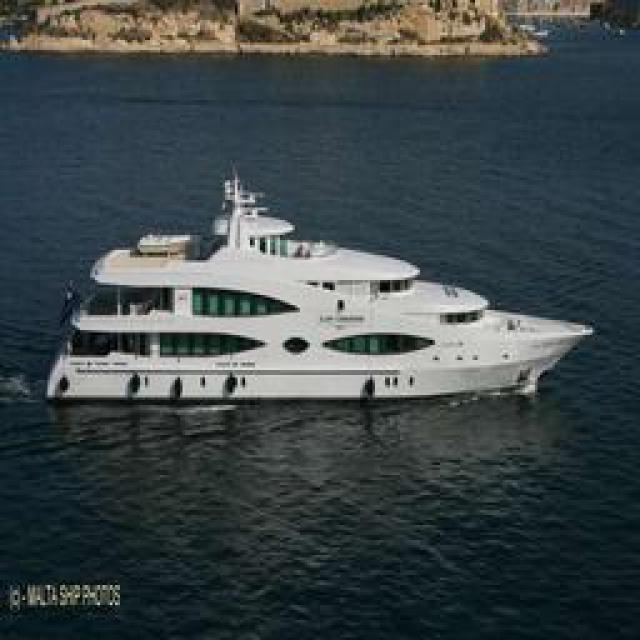Ship: (51, 170, 599, 403)
